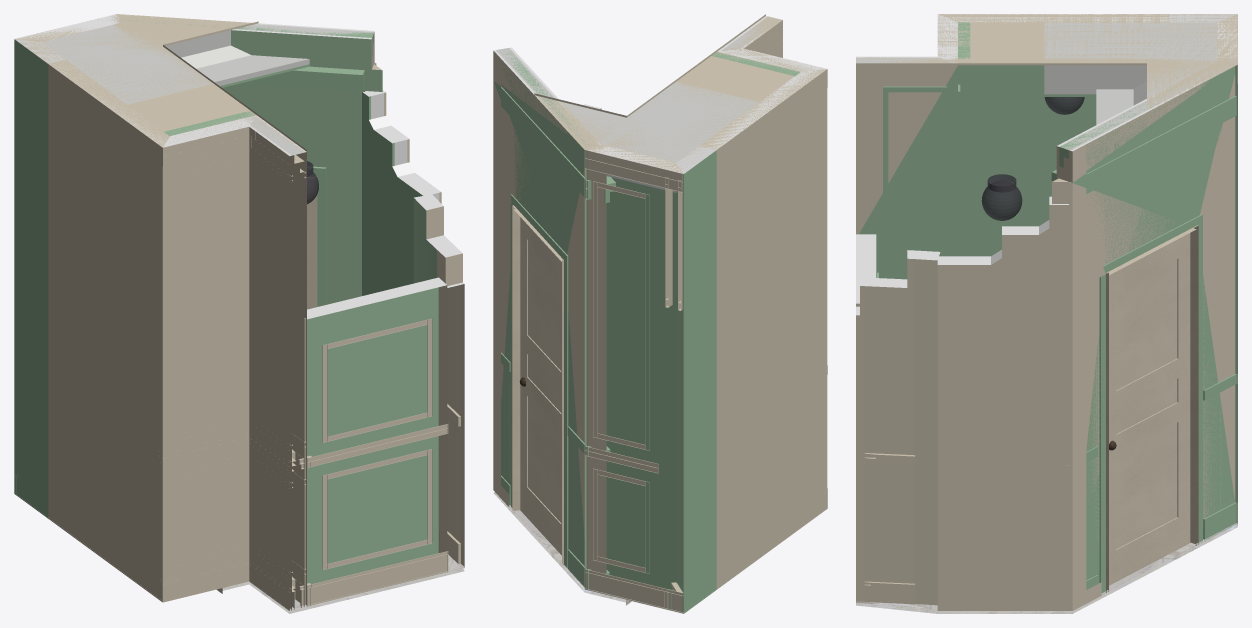
Rendered from powder-room-6c014abd29f6.glb.
The picture shows the model from 3 angles, left to right: view 1: azimuth 30°, elevation 25°; view 2: azimuth 150°, elevation 25°; view 3: azimuth 270°, elevation 25°; orthographic projection. The views are drawn at different scales.
Visible parts, largest first — view 1: powder-room-d33eebe572d154f2, powder-room-1a8091885ac212af, powder-room-ab5cb5e7d303dd66, powder-room-85f0fd939e0fcc78, powder-room-a5eabba2ad6474eb, powder-room-9b21989b25895c4a, powder-room-2575515a05775d9e, powder-room-5b07a8f5f7929ff6, powder-room-c18614f52c08eb0a, powder-room-3d7935a3f1355396, powder-room-e5e2173c4bbfdbc5, powder-room-c56c1017208455ae (+8 smaller); view 2: powder-room-d33eebe572d154f2, powder-room-a5eabba2ad6474eb, powder-room-b2b5f93b4255576d, powder-room-9b21989b25895c4a, powder-room-539cd4ce99668665, powder-room-2575515a05775d9e, powder-room-5b07a8f5f7929ff6, powder-room-86d6fc7292b21ae1, powder-room-ae2ab6de1156d266, powder-room-48dc2409da547ff7, powder-room-f5fbb4dd3b92b4c5, powder-room-60b0468410271b8c (+11 smaller); view 3: powder-room-d65b0a574c2ac13c, powder-room-a5eabba2ad6474eb, powder-room-c18614f52c08eb0a, powder-room-539cd4ce99668665, powder-room-85f0fd939e0fcc78, powder-room-d33eebe572d154f2, powder-room-2575515a05775d9e, powder-room-5b07a8f5f7929ff6, powder-room-48dc2409da547ff7, powder-room-86d6fc7292b21ae1, powder-room-48dd1d74e06d76de, powder-room-e08d4ba707d0aa50 (+17 smaller).
Boxes of the visible parts, x1=… form: powder-room-d33eebe572d154f2: x1=48, y1=60, x2=167, y2=601; powder-room-1a8091885ac212af: x1=163, y1=116, x2=255, y2=602; powder-room-ab5cb5e7d303dd66: x1=306, y1=277, x2=447, y2=605; powder-room-85f0fd939e0fcc78: x1=243, y1=115, x2=306, y2=610; powder-room-a5eabba2ad6474eb: x1=97, y1=14, x2=382, y2=304; powder-room-9b21989b25895c4a: x1=14, y1=39, x2=64, y2=518; powder-room-2575515a05775d9e: x1=14, y1=14, x2=306, y2=155; powder-room-5b07a8f5f7929ff6: x1=42, y1=24, x2=309, y2=104; powder-room-c18614f52c08eb0a: x1=413, y1=194, x2=464, y2=567; powder-room-3d7935a3f1355396: x1=362, y1=92, x2=425, y2=295; powder-room-e5e2173c4bbfdbc5: x1=307, y1=551, x2=448, y2=606; powder-room-c56c1017208455ae: x1=322, y1=318, x2=432, y2=442; powder-room-d33eebe572d154f2: x1=701, y1=69, x2=827, y2=589; powder-room-a5eabba2ad6474eb: x1=493, y1=47, x2=606, y2=589; powder-room-b2b5f93b4255576d: x1=584, y1=145, x2=683, y2=593; powder-room-9b21989b25895c4a: x1=676, y1=146, x2=716, y2=613; powder-room-539cd4ce99668665: x1=520, y1=217, x2=561, y2=555; powder-room-2575515a05775d9e: x1=534, y1=14, x2=826, y2=173; powder-room-5b07a8f5f7929ff6: x1=562, y1=82, x2=758, y2=162; powder-room-86d6fc7292b21ae1: x1=512, y1=205, x2=563, y2=565; powder-room-ae2ab6de1156d266: x1=593, y1=181, x2=649, y2=450; powder-room-48dc2409da547ff7: x1=510, y1=194, x2=568, y2=567; powder-room-f5fbb4dd3b92b4c5: x1=585, y1=569, x2=682, y2=613; powder-room-60b0468410271b8c: x1=585, y1=150, x2=682, y2=192; powder-room-d65b0a574c2ac13c: x1=937, y1=204, x2=1068, y2=610; powder-room-a5eabba2ad6474eb: x1=1052, y1=54, x2=1235, y2=610; powder-room-c18614f52c08eb0a: x1=856, y1=250, x2=940, y2=605; powder-room-539cd4ce99668665: x1=1109, y1=233, x2=1190, y2=585; powder-room-85f0fd939e0fcc78: x1=856, y1=56, x2=957, y2=279; powder-room-d33eebe572d154f2: x1=938, y1=14, x2=1169, y2=256; powder-room-2575515a05775d9e: x1=856, y1=14, x2=1237, y2=110; powder-room-5b07a8f5f7929ff6: x1=1044, y1=22, x2=1217, y2=124; powder-room-48dc2409da547ff7: x1=1099, y1=214, x2=1202, y2=594; powder-room-86d6fc7292b21ae1: x1=1106, y1=225, x2=1198, y2=592; powder-room-48dd1d74e06d76de: x1=1086, y1=96, x2=1236, y2=193; powder-room-e08d4ba707d0aa50: x1=883, y1=86, x2=947, y2=278.
Size of the model in its own units: 1.92 by 3.05 by 2.26.
20 materials, 4 textured.
